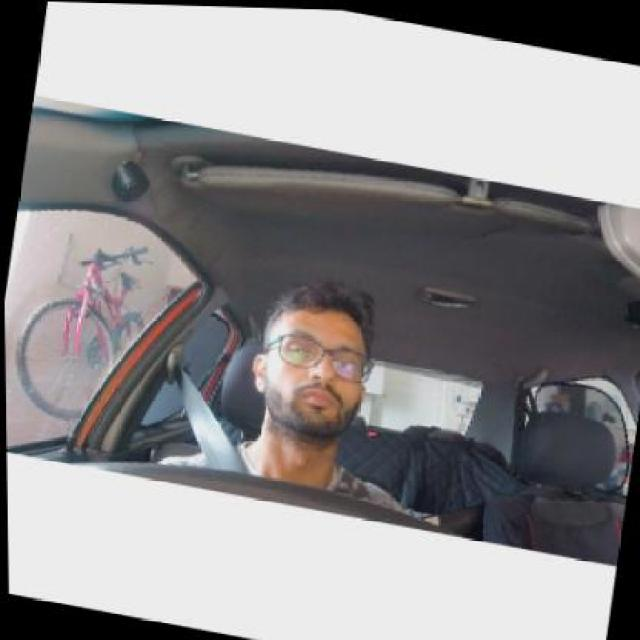person: (258, 298, 374, 442)
